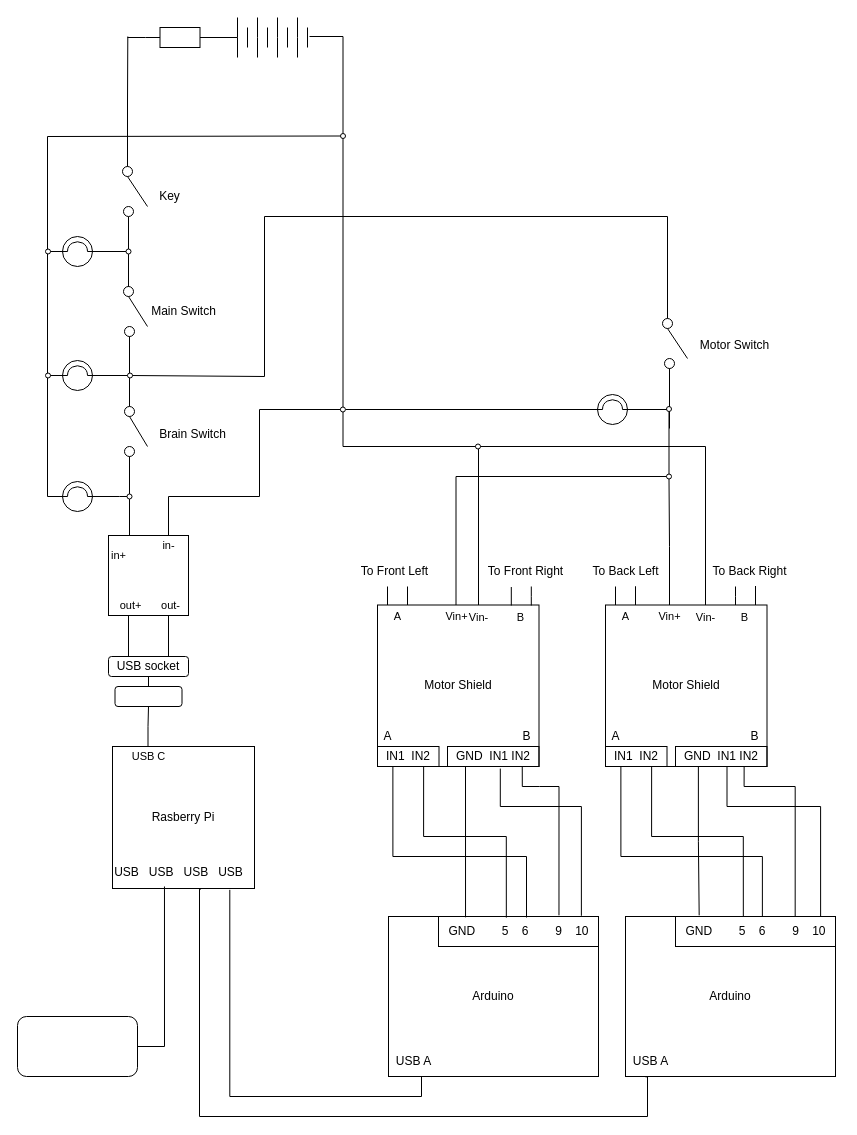
The diagram is 857 pixels wide and 1135 high, and some of its shapes have lost their labels. The centre of each missing label's shape, as x and y in pixels:
12V-5V Buck Converter: the point at 148,575
fuse: the point at 179,37
USB plug: the point at 148,696
XBOX Wireless Dongle: the point at 77,1046
